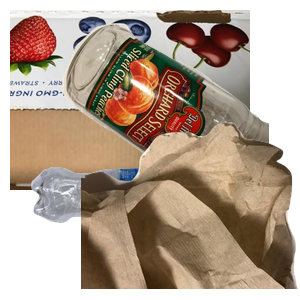cardboard: (10, 10, 250, 190)
glass: (60, 21, 300, 201)
plastic: (29, 165, 227, 300)
trash: (81, 120, 300, 300)
